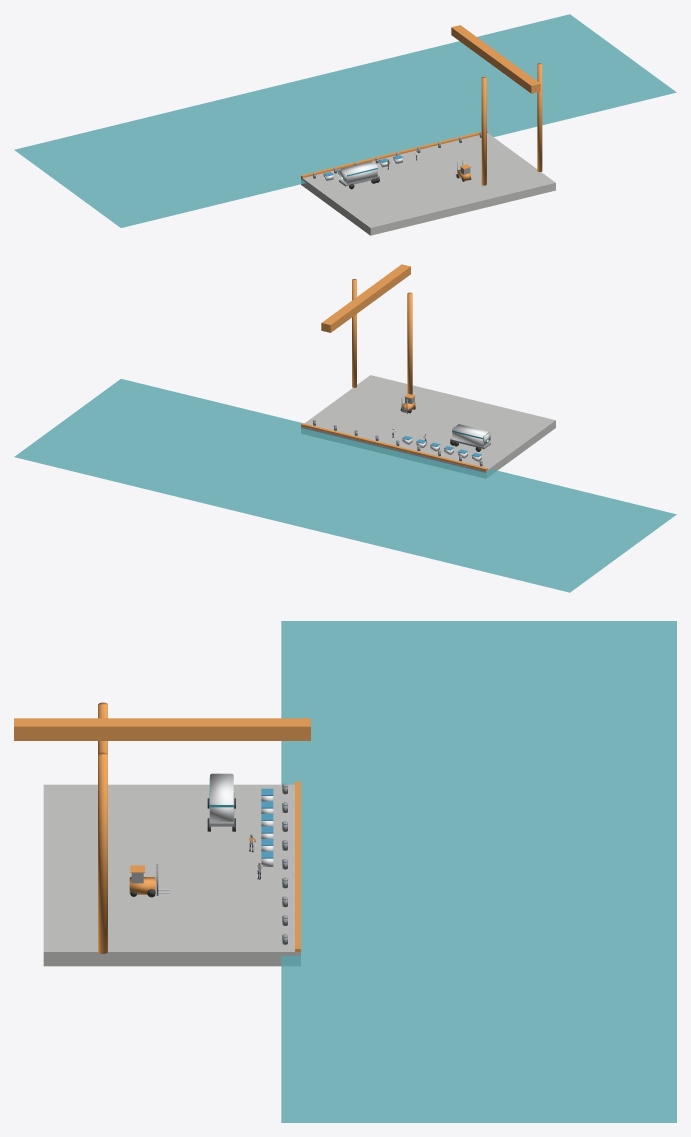
Rendered from port_transfer_system.glb.
3 renders of one model, top to bottom at view 1: azimuth 30°, elevation 25°; view 2: azimuth 150°, elevation 25°; view 3: azimuth 270°, elevation 25°, orthographic. The views are drawn at different scales.
Visible parts, largest first — view 1: Harbour, Quay, CraneBeam, QuayEdge, CraneLeg-1, CraneLeg1, InsulatedBody; view 2: Harbour, Quay, CraneBeam, QuayEdge, CraneLeg-1, InsulatedBody; view 3: Harbour, Quay, CraneBeam, CraneLeg1, InsulatedBody, QuayEdge.
Boxes of the visible parts, <box> form: Harbour: <box>14,14,676,227</box>; Quay: <box>301,133,555,235</box>; CraneBeam: <box>451,25,540,93</box>; QuayEdge: <box>301,131,487,178</box>; CraneLeg-1: <box>481,77,486,185</box>; CraneLeg1: <box>537,63,542,171</box>; InsulatedBody: <box>341,161,377,183</box>; Harbour: <box>14,379,676,592</box>; Quay: <box>301,375,555,478</box>; CraneBeam: <box>321,264,410,332</box>; QuayEdge: <box>301,423,487,470</box>; CraneLeg-1: <box>407,292,412,394</box>; InsulatedBody: <box>452,424,488,446</box>; Harbour: <box>281,621,676,1122</box>; Quay: <box>43,784,300,966</box>; CraneBeam: <box>14,718,310,740</box>; CraneLeg1: <box>98,752,107,953</box>; InsulatedBody: <box>210,774,233,821</box>; QuayEdge: <box>295,781,300,951</box>.
Size of the model in its own units: 120 by 24.4 by 67.
